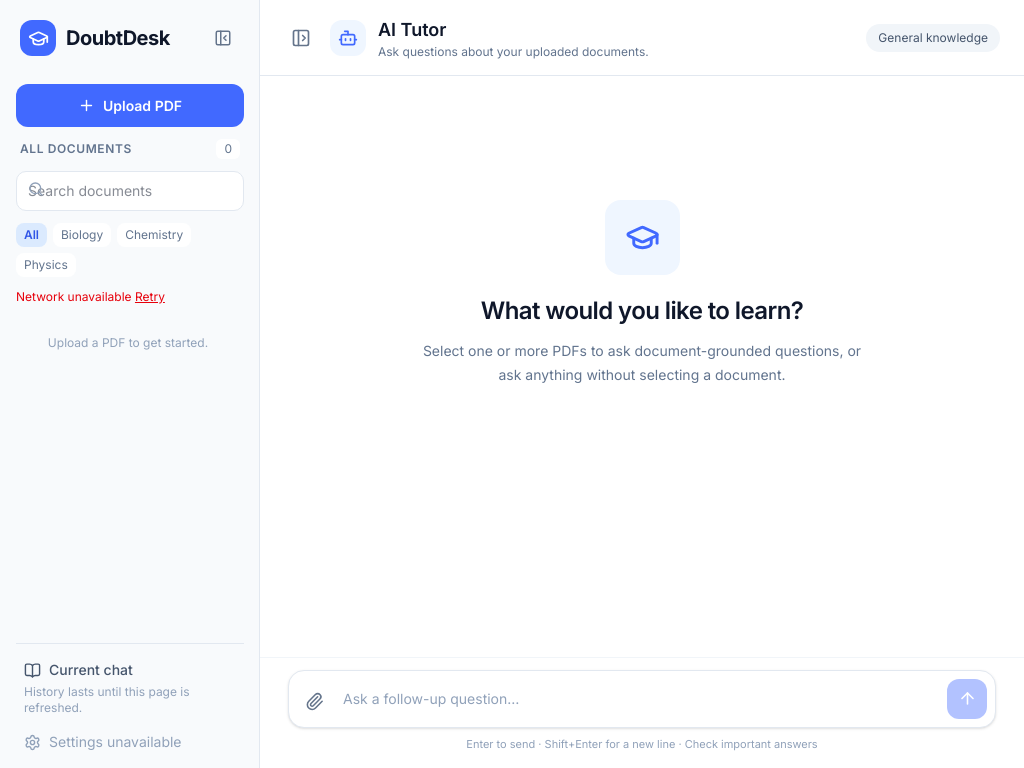
Test case: DoubtDesk PDF uploads › allows retrying a failed document-list request
Expected: the message "Network unavailable Retry" is shown, top-left (16, 289), bottom-right (165, 305)
Click the button "Retry".
click(150, 297)  # box top-left (135, 289), bottom-right (165, 305)
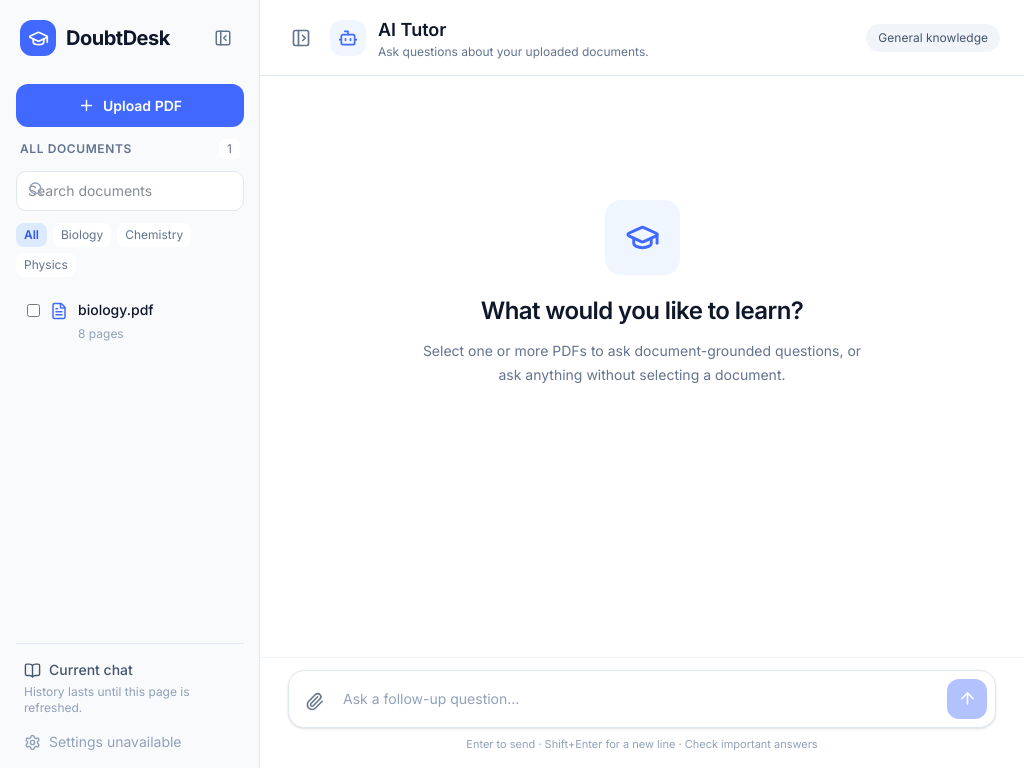
Expected: the text "biology.pdf" is shown, top-left (78, 300), bottom-right (154, 320)
Expected: the message "Network unavailable Retry" is gone
